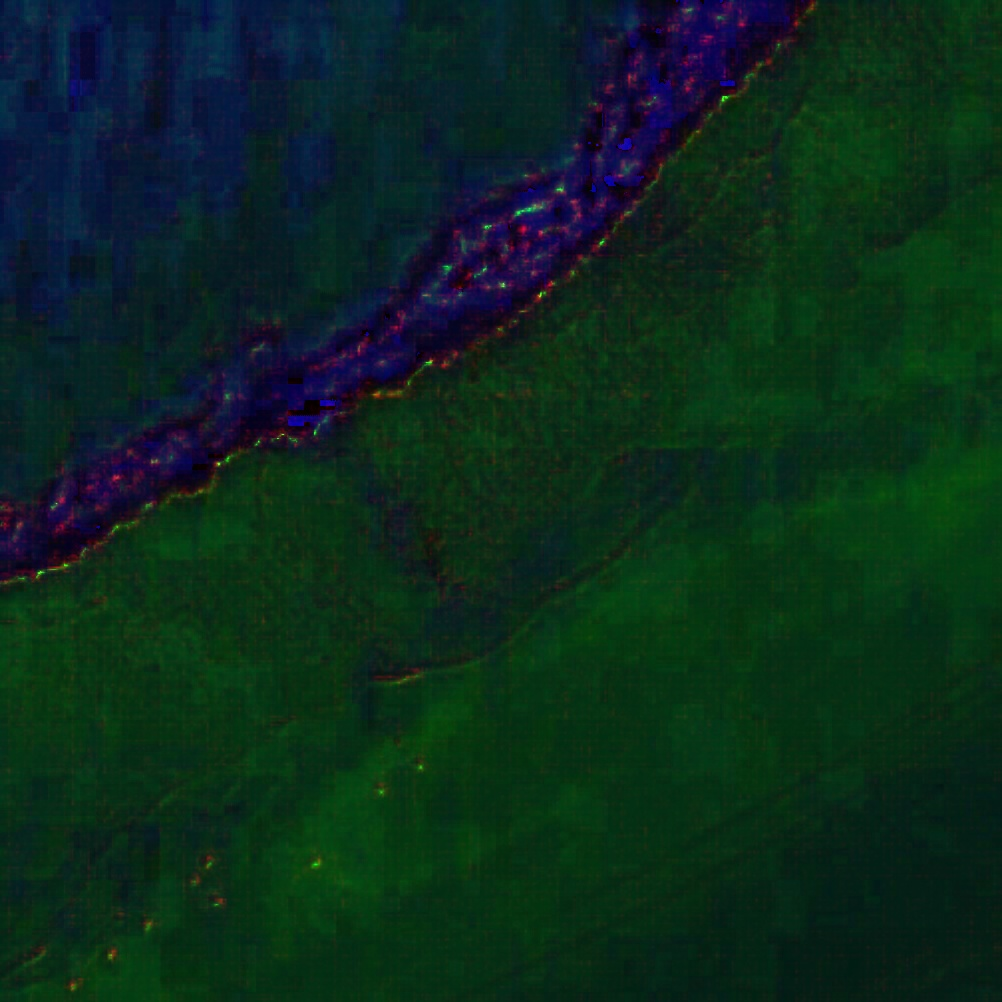rip_current: (169, 261, 478, 645)
